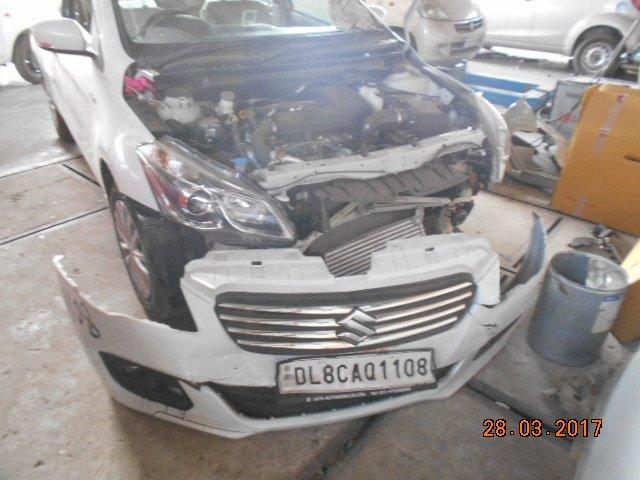Large_tear_or_damage: (124, 90, 512, 292)
